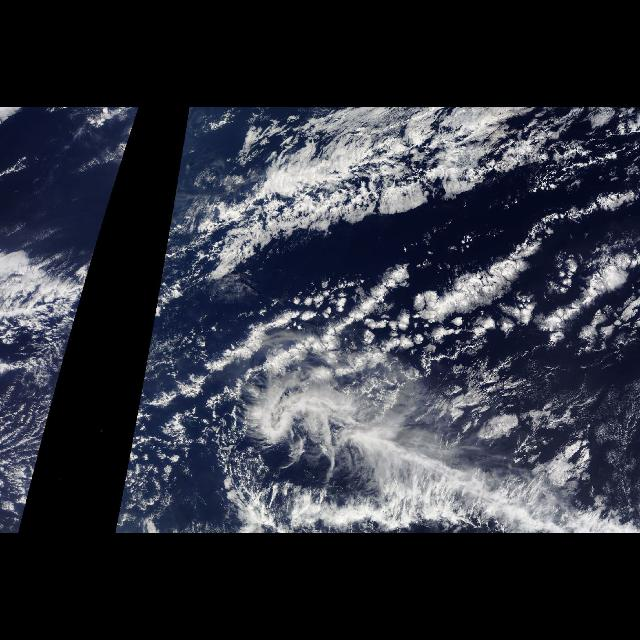Fish: (458, 188, 632, 280)
Flower: (296, 284, 640, 356)
